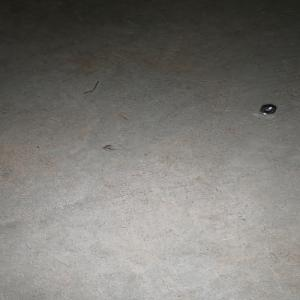Nut: (258, 105, 277, 116)
